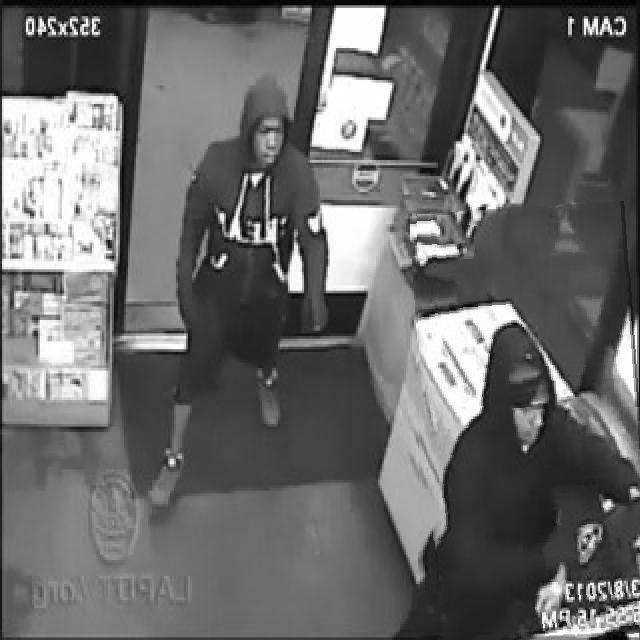Shoplifting: (417, 204, 640, 640)
